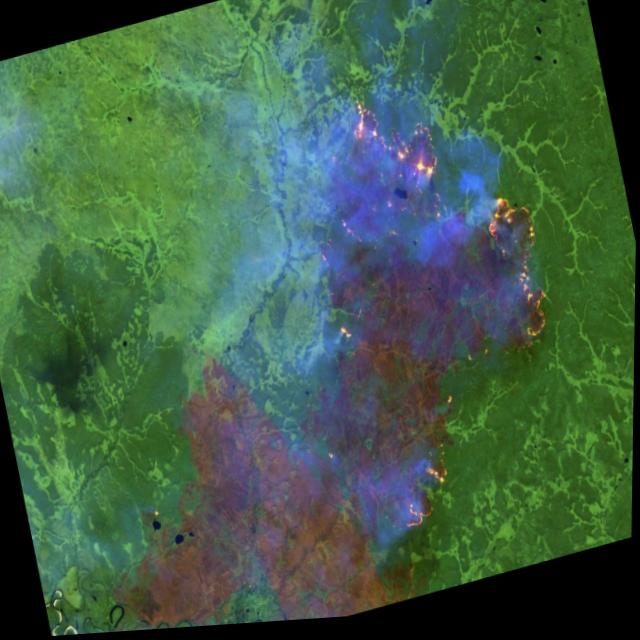fire: (256, 39, 606, 569)
